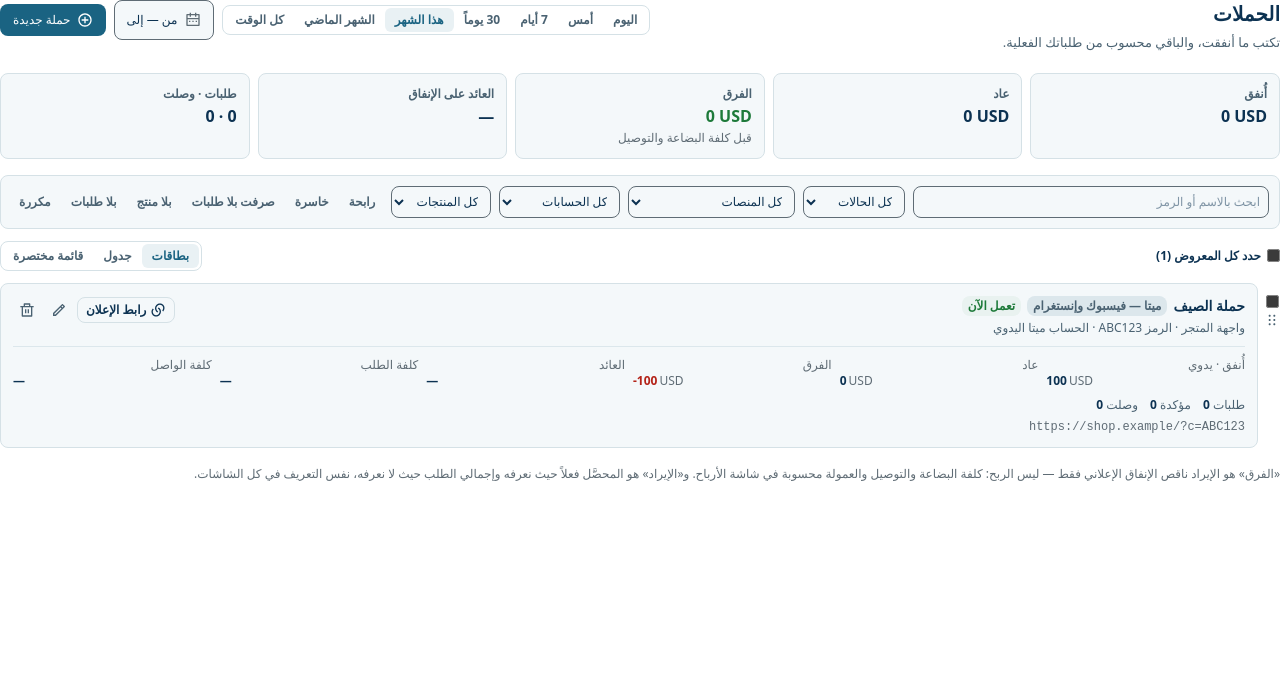
Test: editing a campaign › — shows the account it is filed under as the chosen one
Click the button named "تعديل": [59, 310] box [45, 296, 73, 324]
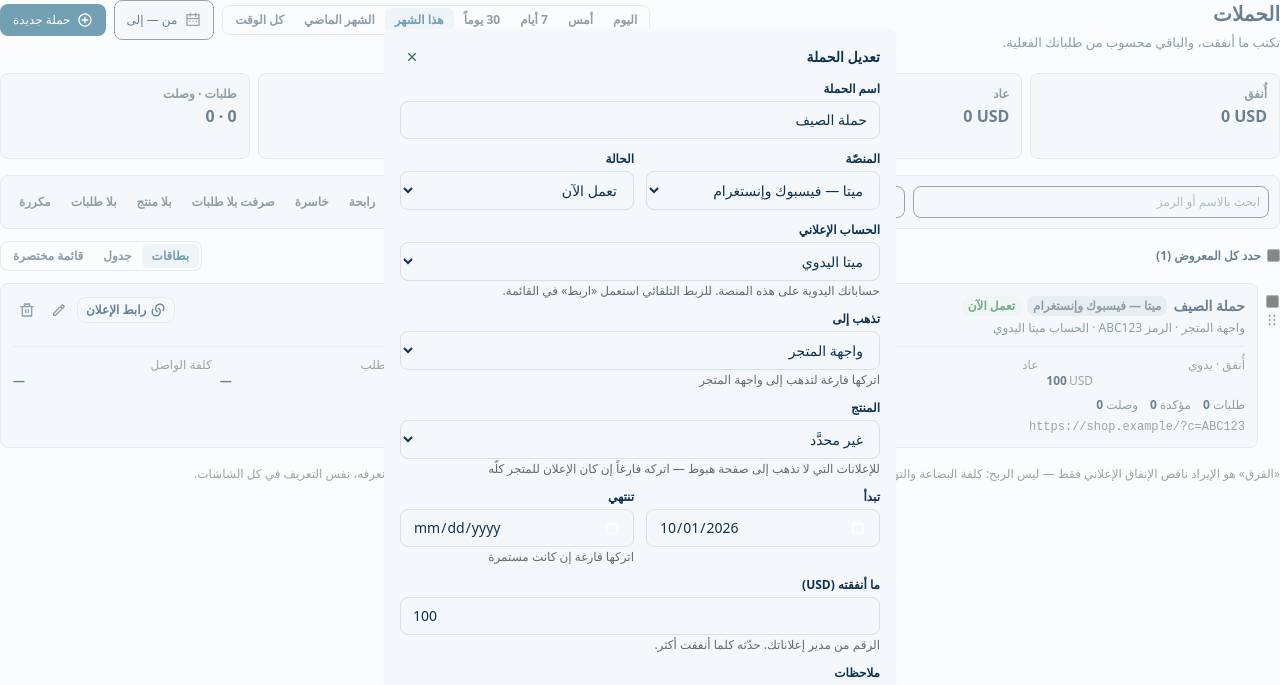
expect the dropdown below "الحساب الإعلاني" shows "ميتا اليدوي": met, box [400, 242, 880, 281]
